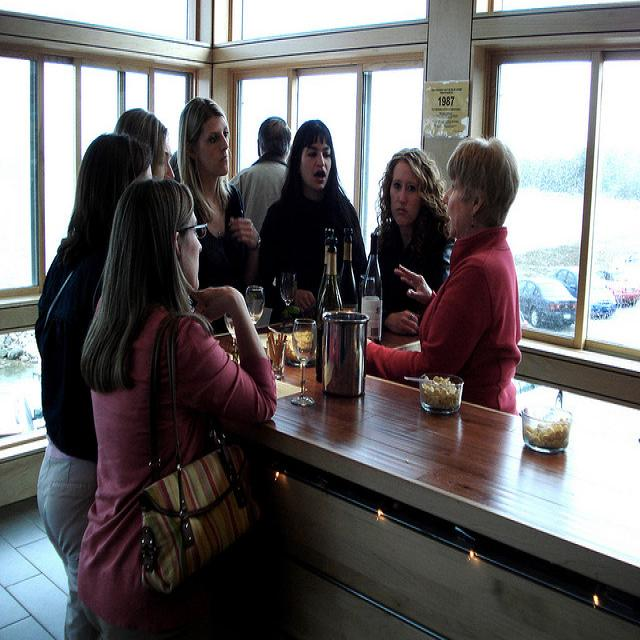Vehicle: (554, 267, 617, 317), (520, 274, 576, 324), (591, 264, 640, 307)
